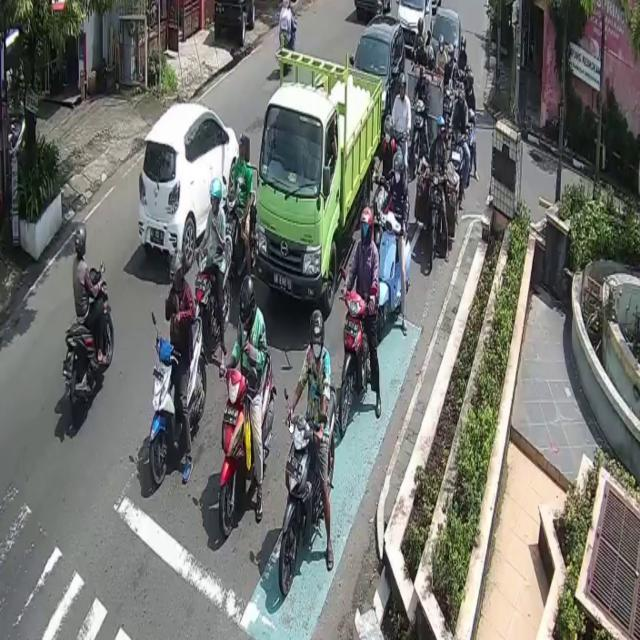car: (138, 97, 241, 266), (351, 14, 406, 142), (396, 0, 432, 57)
motorbike: (279, 383, 339, 596), (148, 313, 208, 488), (221, 349, 276, 537), (64, 266, 115, 428), (339, 294, 380, 434), (190, 234, 233, 344), (376, 210, 409, 334), (221, 190, 256, 278), (428, 165, 447, 264), (412, 101, 430, 176), (448, 133, 467, 195)
truck: (256, 45, 384, 313)
